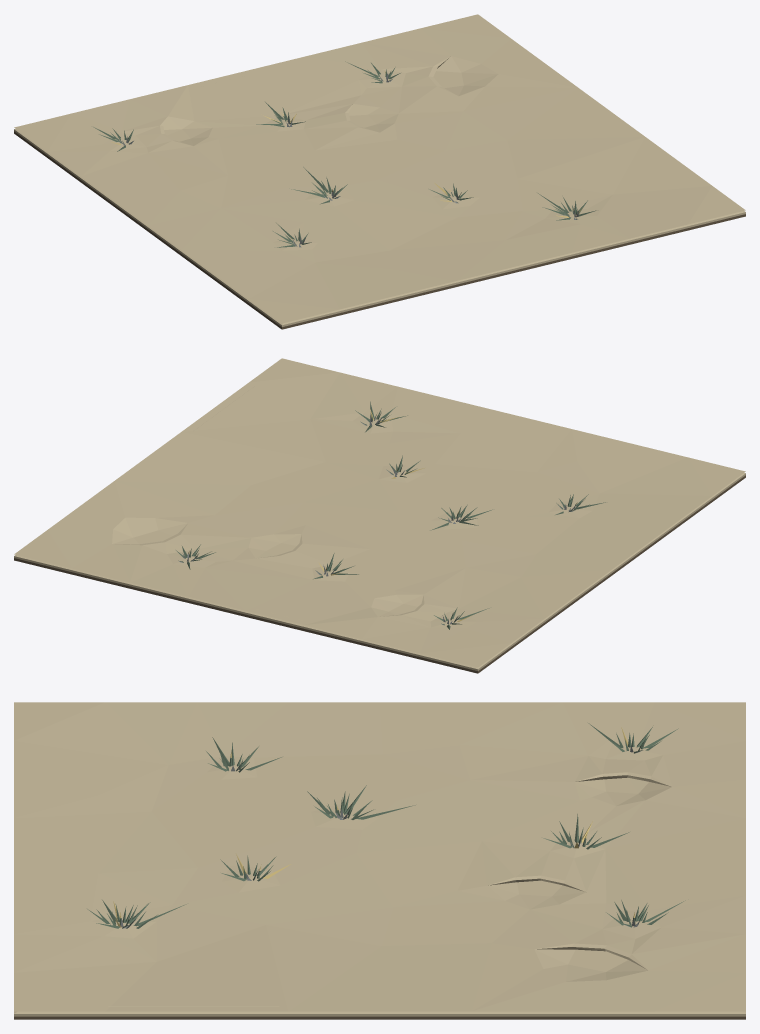
The model's file is marram-dune-tile-56cdf8.glb.
3 renders of one model, top to bottom at view 1: azimuth 30°, elevation 25°; view 2: azimuth 150°, elevation 25°; view 3: azimuth 270°, elevation 25°, orthographic. The views are drawn at different scales.
Visible parts, largest first — view 1: marram-dune-tile-56cdf8; view 2: marram-dune-tile-56cdf8; view 3: marram-dune-tile-56cdf8.
Part boxes in pixels (x1,y1,x2,y2): marram-dune-tile-56cdf8: [14, 14, 745, 329]; marram-dune-tile-56cdf8: [14, 358, 745, 673]; marram-dune-tile-56cdf8: [14, 702, 745, 1019].
Size of the model in its own units: 4 by 0.1162 by 4.
